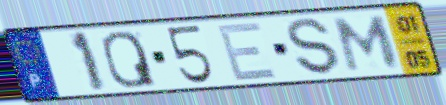1: (68, 29, 110, 94)
5: (163, 23, 215, 86)
E: (214, 19, 281, 83)
M: (332, 14, 402, 74)
Q: (99, 29, 160, 89)
S: (285, 17, 343, 77)
